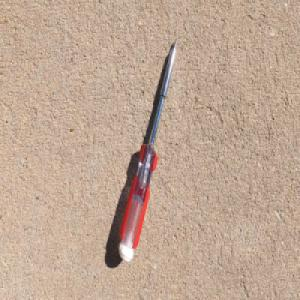Screwdriver: (116, 36, 179, 264)
